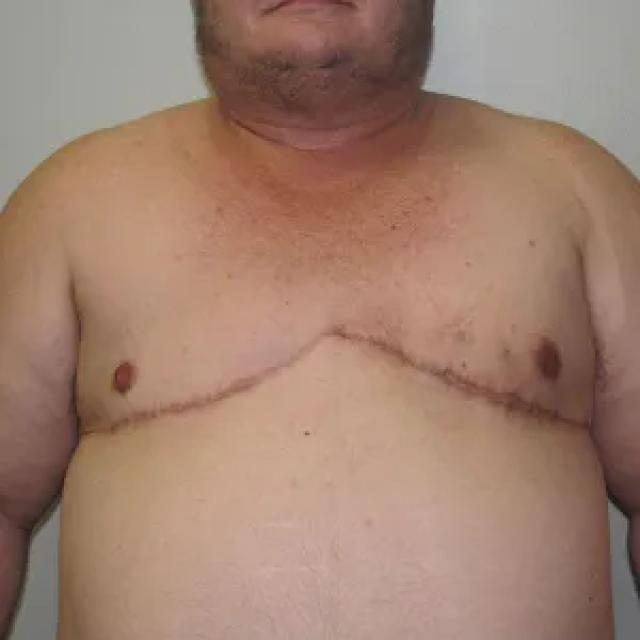Seno herido: (334, 222, 604, 463), (66, 221, 330, 466)
